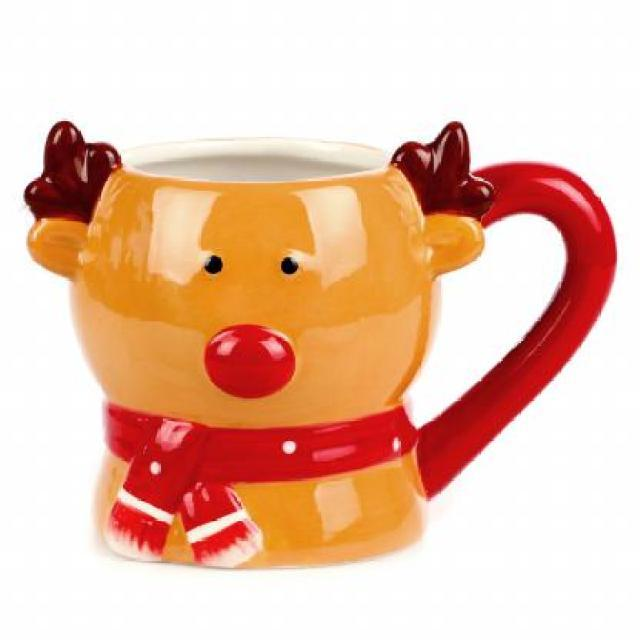cup: (22, 106, 628, 577)
